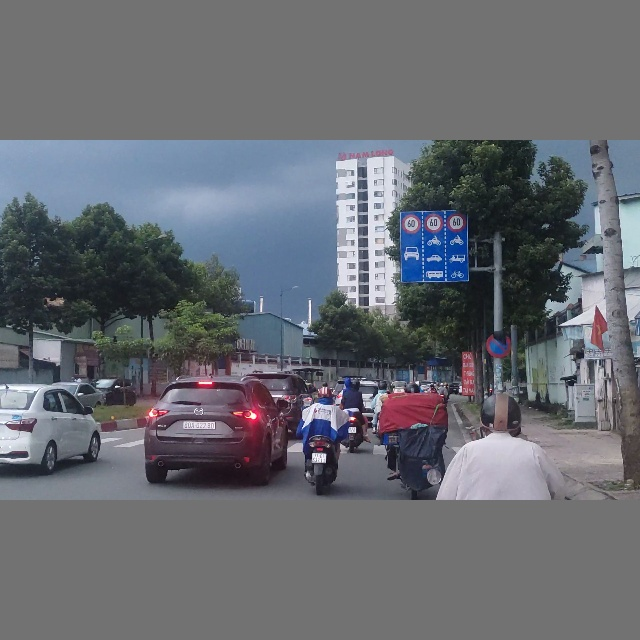P.127*60: (447, 212, 466, 232), (402, 214, 421, 233), (425, 213, 443, 232)
P.131a: (486, 334, 511, 357)
R.415a: (400, 234, 469, 281)
